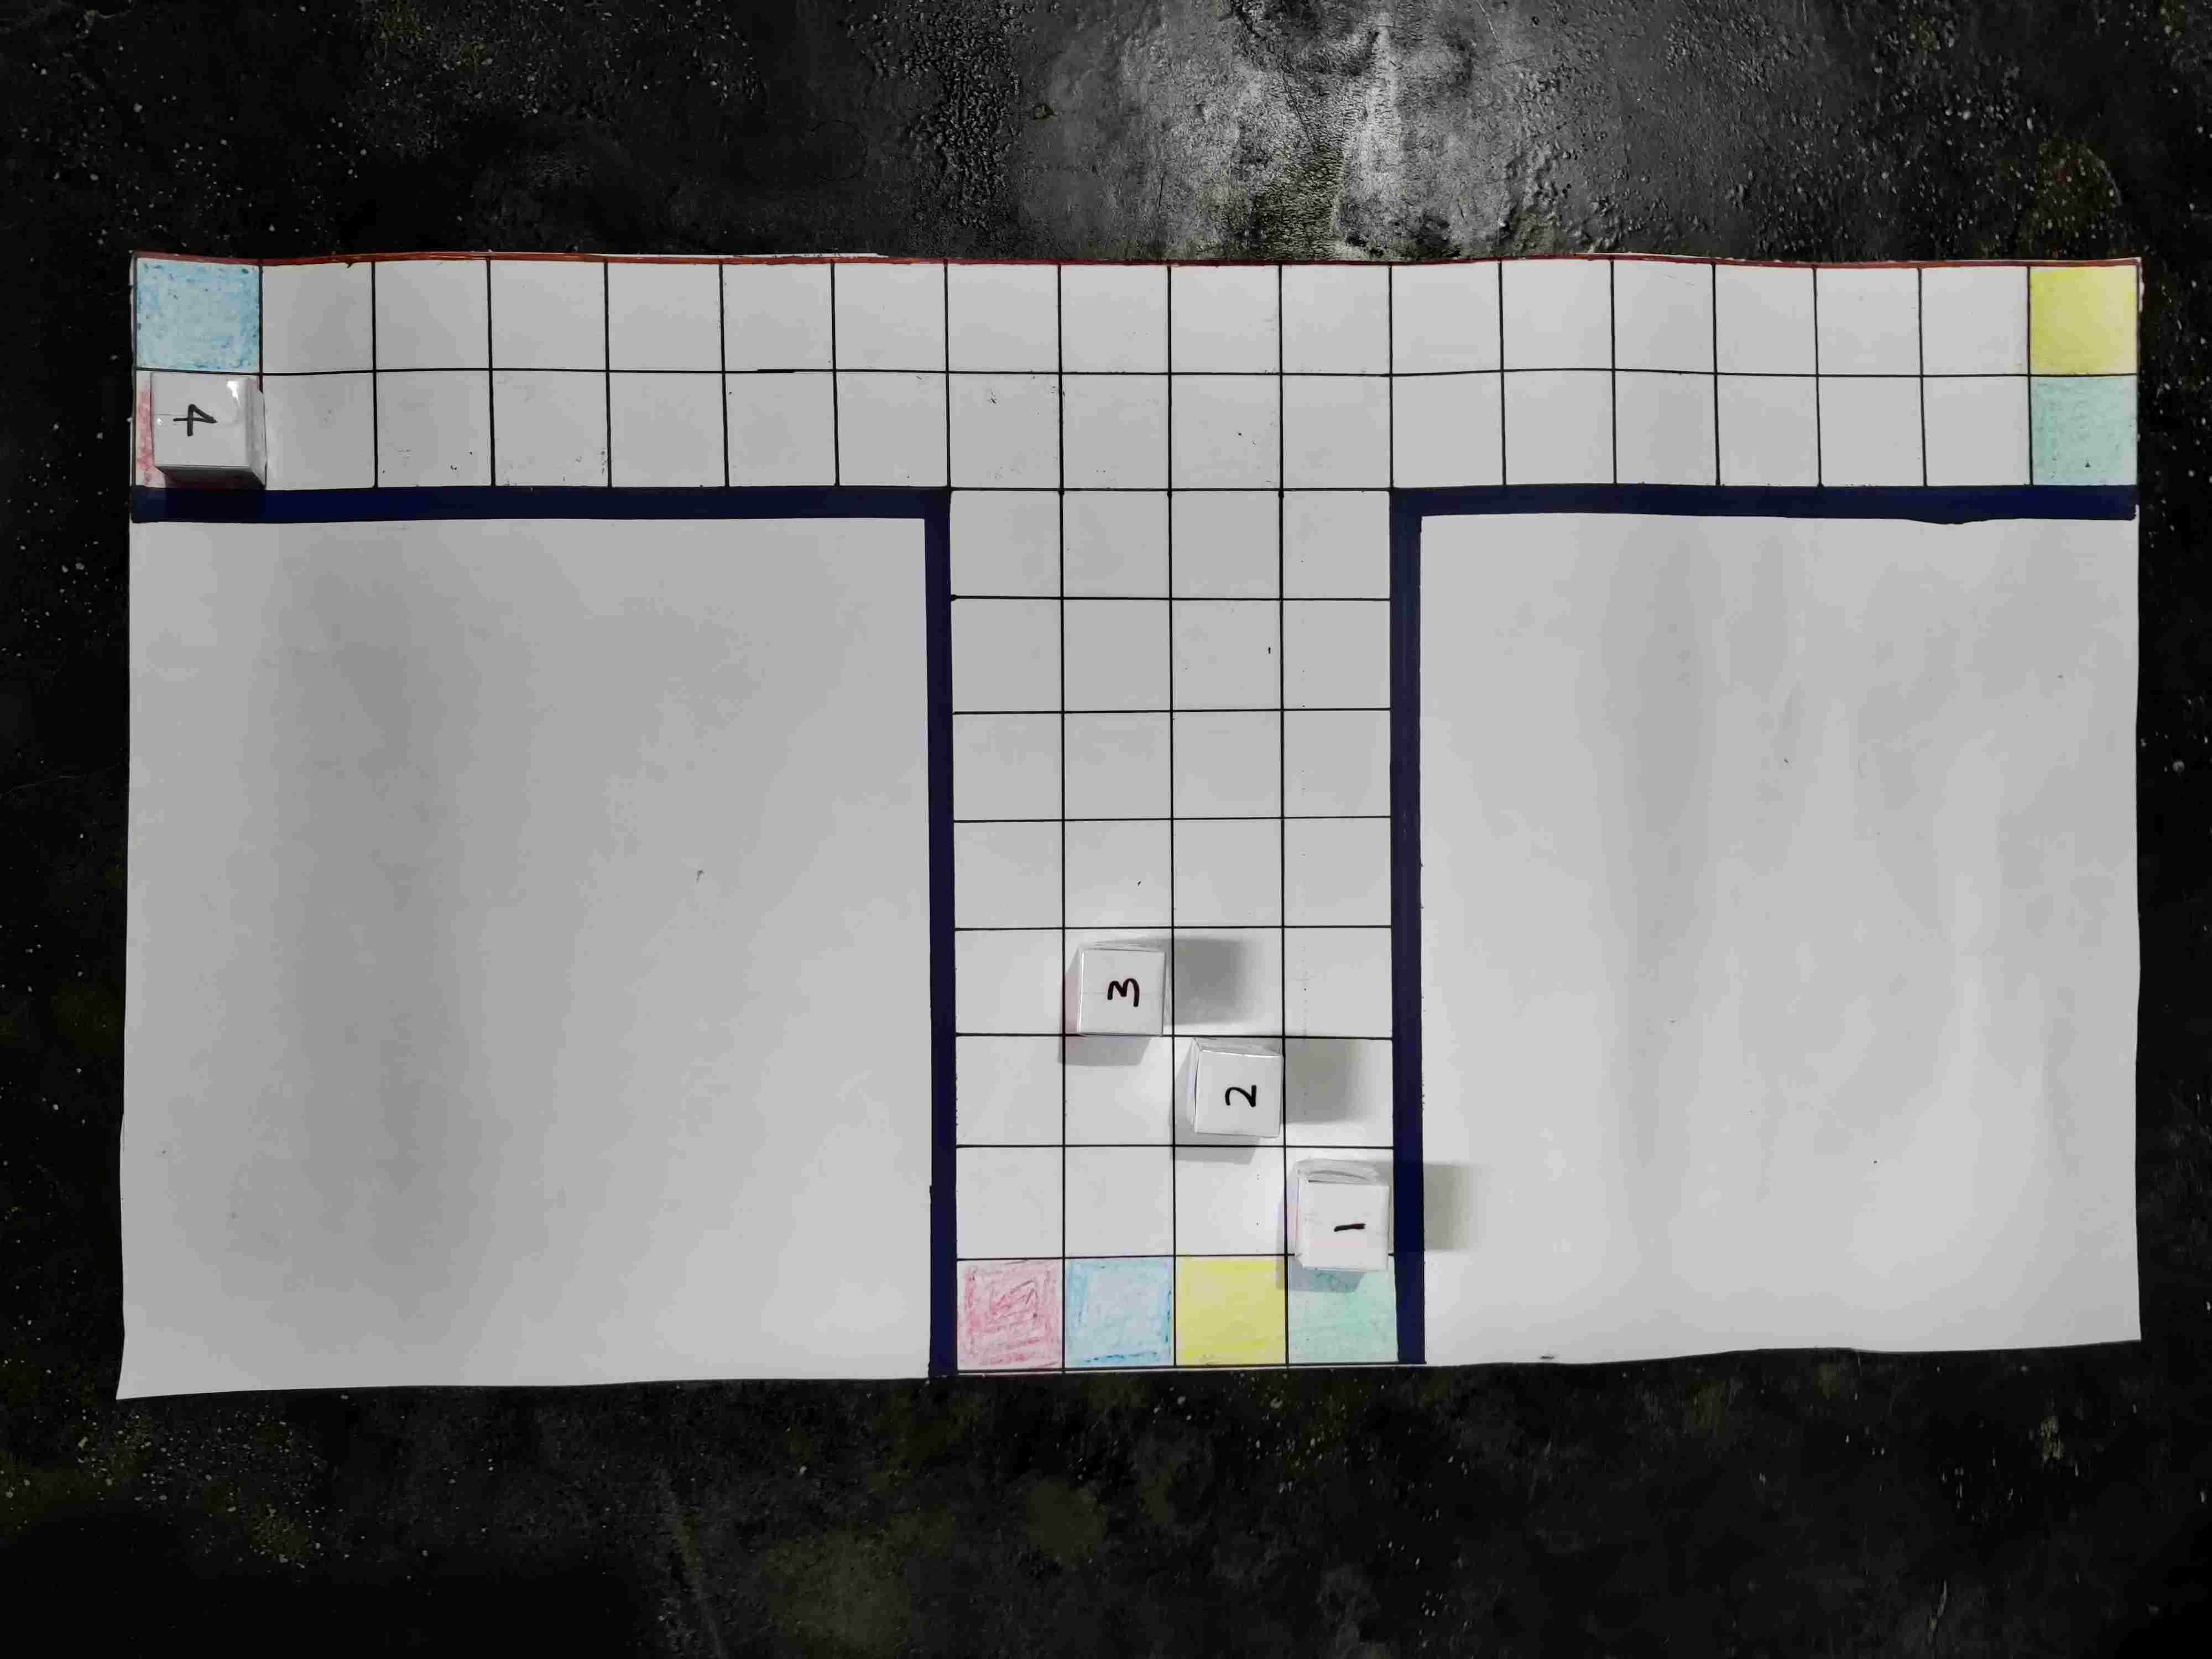arena: (261, 213, 2060, 1121)
bot: (1251, 286, 1325, 362), (1195, 1072, 1268, 1150), (503, 1100, 583, 1171), (988, 298, 1057, 373)
